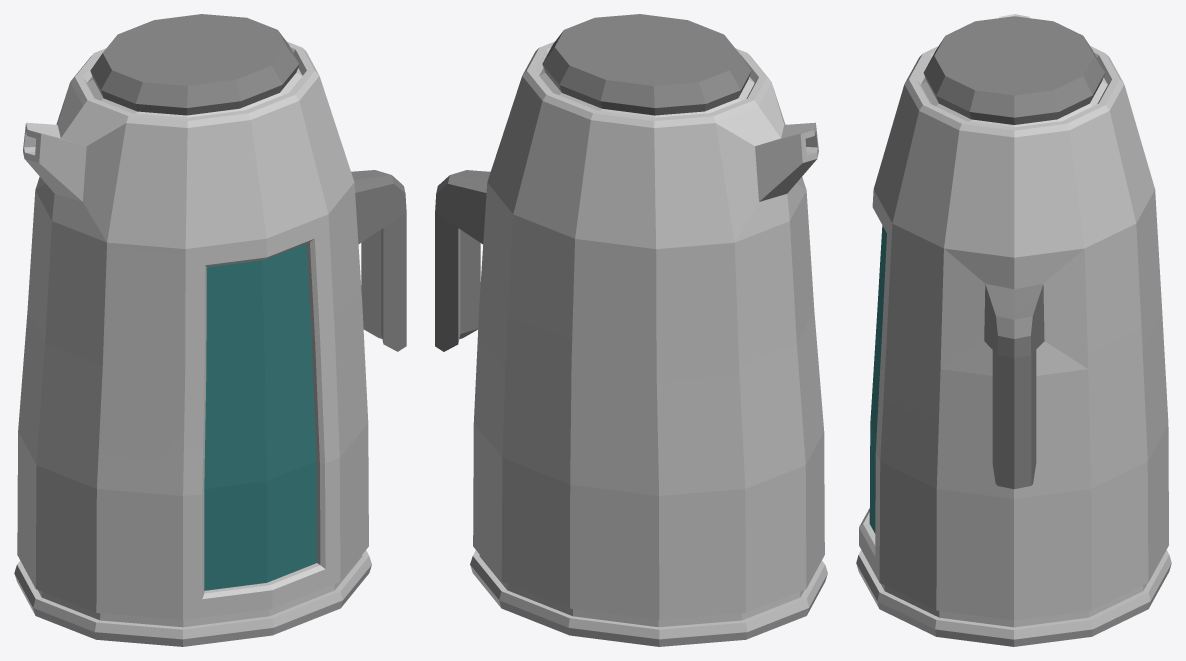
Rendered from kettle.gltf.
The picture shows the model from 3 angles, left to right: view 1: azimuth 30°, elevation 25°; view 2: azimuth 150°, elevation 25°; view 3: azimuth 270°, elevation 25°; orthographic projection. The views are drawn at different scales.
Visible parts, largest first — view 1: Kettle; view 2: Kettle; view 3: Kettle.
Boxes of the visible parts, left/top/right/bottom form: Kettle: left=14, top=14, right=406, bottom=646; Kettle: left=435, top=14, right=827, bottom=646; Kettle: left=856, top=14, right=1171, bottom=646.
Bounding box in the file's own units: 2.07 × 2.73 × 1.51.
